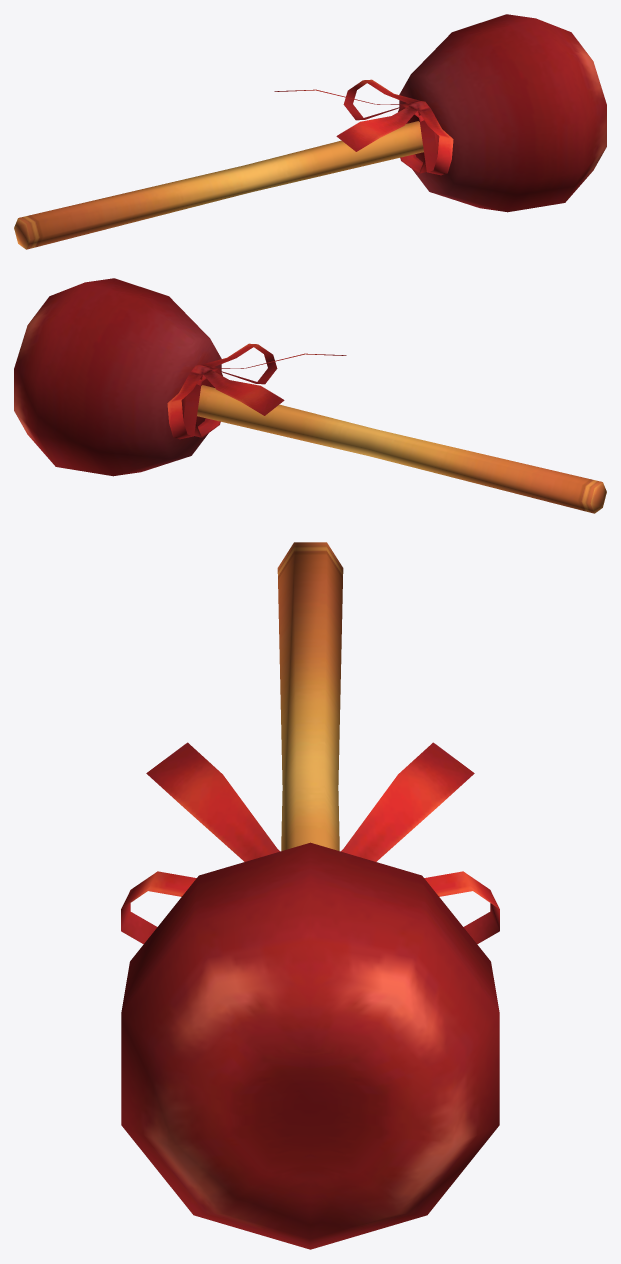
Rendered from item_weaswoapple.glb.
3 views of the same model, one above another, from view 1: azimuth 30°, elevation 25°; view 2: azimuth 150°, elevation 25°; view 3: azimuth 270°, elevation 25° (orthographic). The views are drawn at different scales.
Parts seen in each view (by area): view 1: item_0; view 2: item_0; view 3: item_0.
Part boxes in pixels (x1,y1,x2,y2): item_0: (14, 14, 606, 249); item_0: (14, 278, 606, 513); item_0: (121, 542, 499, 1249).
Bounding box in the file's own units: 1.14 × 0.3503 × 0.3336.
Materials: 1 (1 with a texture image).
